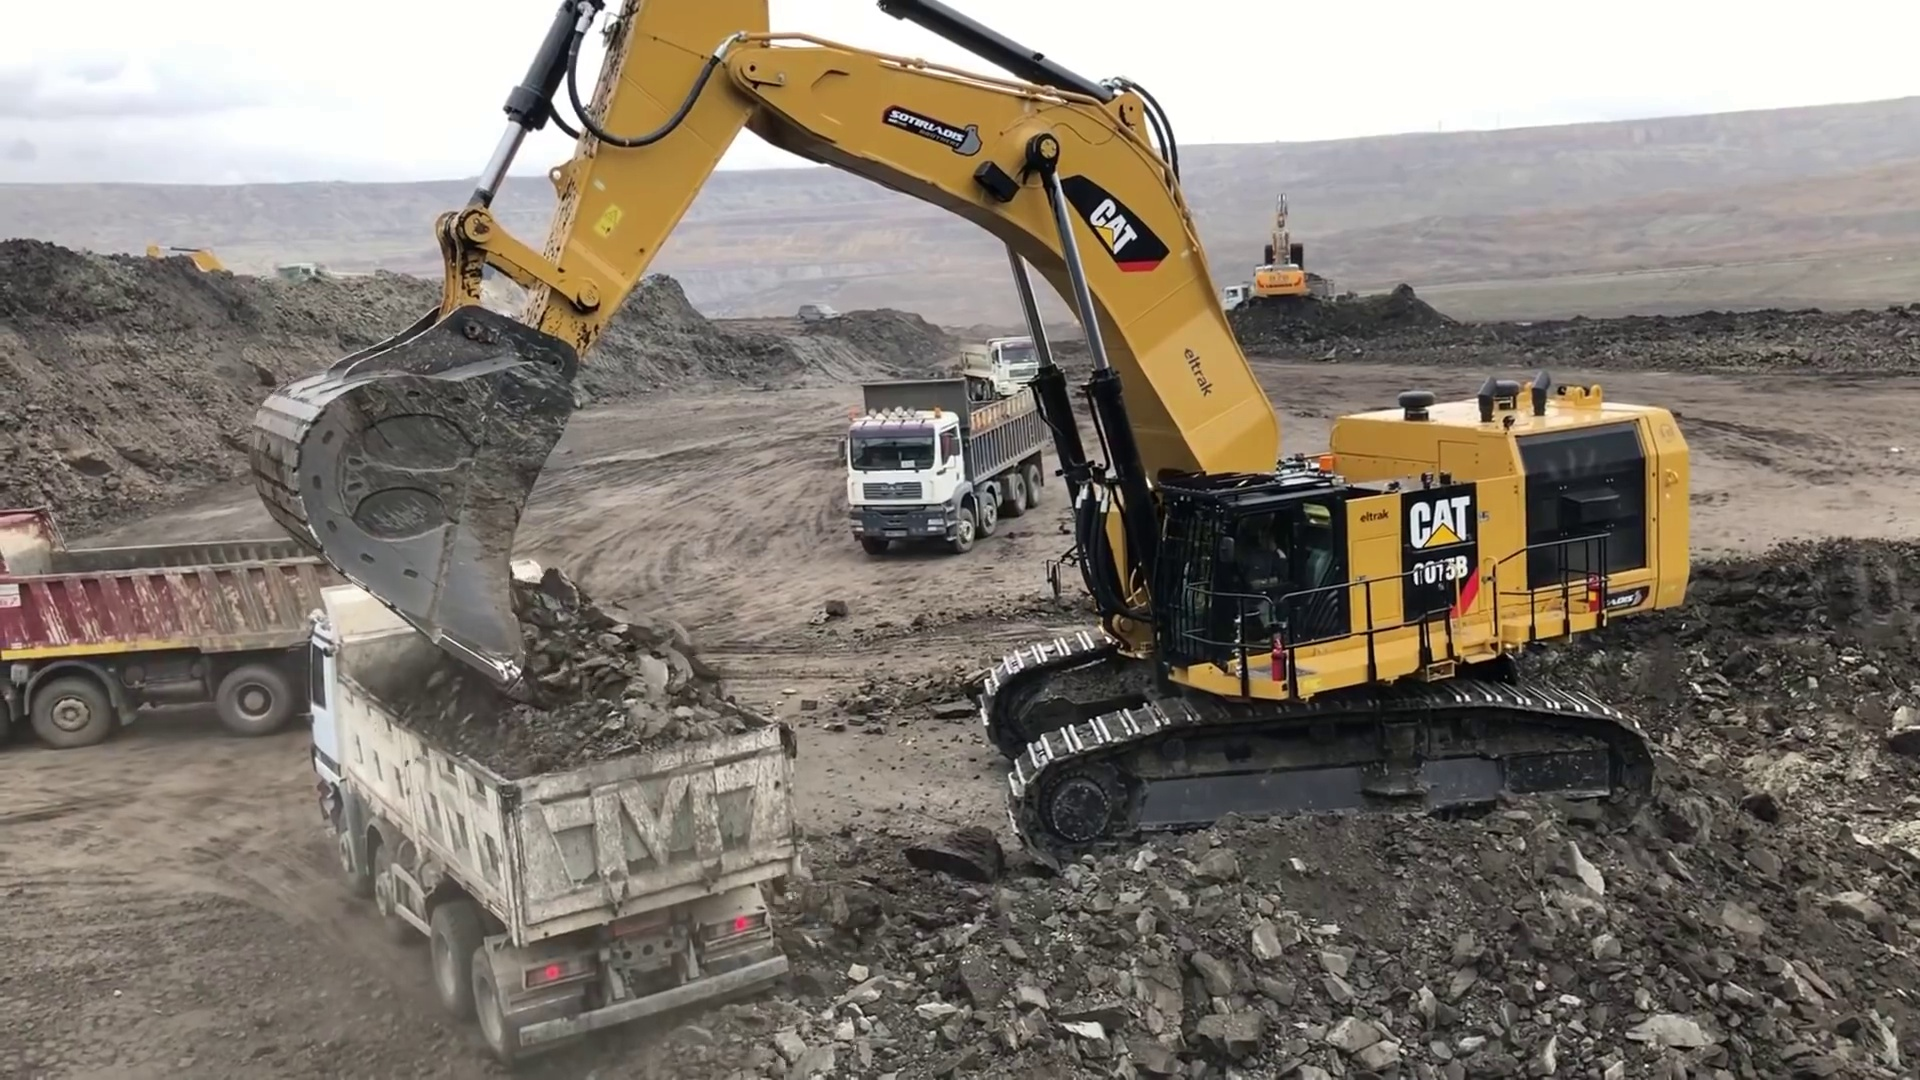excavator: (253, 4, 1691, 884), (1257, 186, 1313, 305)
truck: (291, 560, 807, 1071), (3, 500, 368, 745), (835, 380, 1054, 556), (968, 334, 1035, 380), (1222, 282, 1327, 309)
